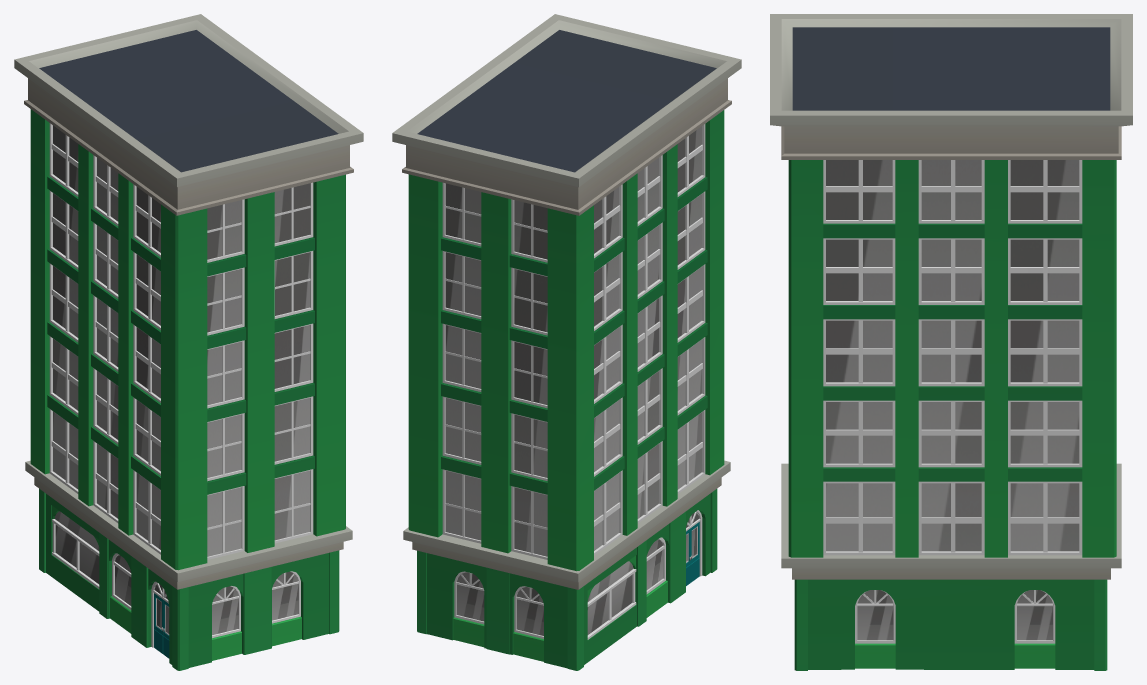
The model's file is Building_27_N.fbx.
3 renders of one model, left to right at view 1: azimuth 30°, elevation 25°; view 2: azimuth 150°, elevation 25°; view 3: azimuth 270°, elevation 25°, orthographic. The views are drawn at different scales.
Parts seen in each view (by area): view 1: Building_27_N; view 2: Building_27_N; view 3: Building_27_N.
Part boxes in pixels (left/top/right/bottom): Building_27_N: left=14, top=14, right=363, bottom=670; Building_27_N: left=392, top=14, right=741, bottom=670; Building_27_N: left=770, top=14, right=1132, bottom=670.
Size of the model in its own units: 765 by 1974 by 1155.
